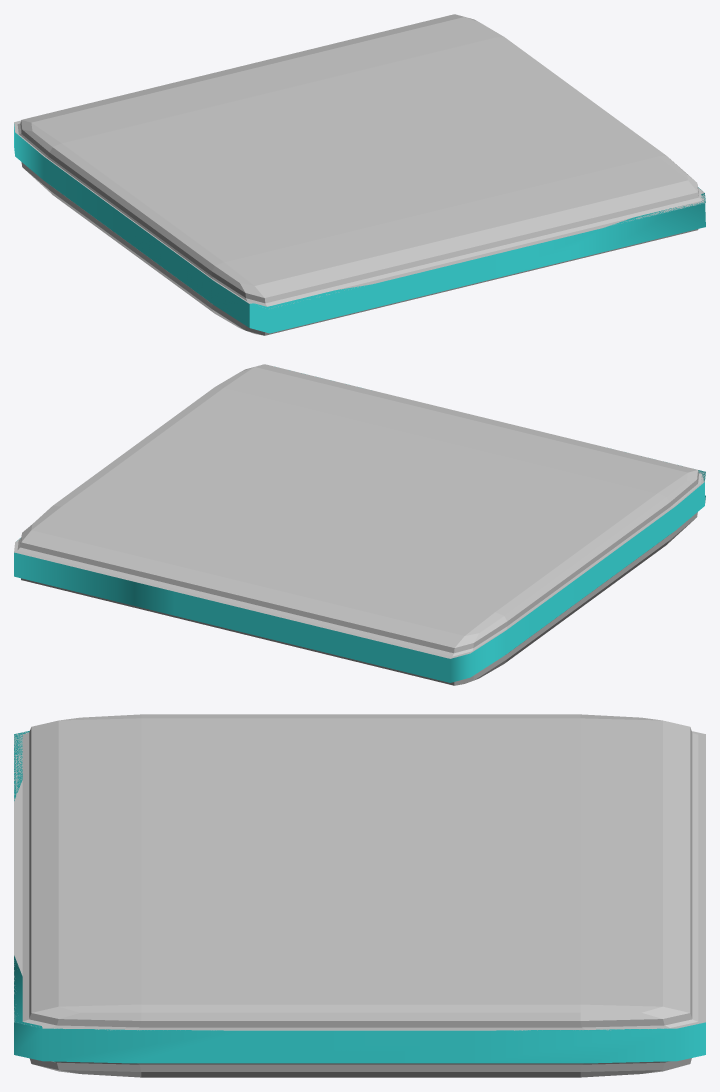
Rendered from Foundation.fbx.
3 renders of one model, top to bottom at view 1: azimuth 30°, elevation 25°; view 2: azimuth 150°, elevation 25°; view 3: azimuth 270°, elevation 25°, orthographic. The views are drawn at different scales.
Parts seen in each view (by area): view 1: Foundation_(1); view 2: Foundation_(1); view 3: Foundation_(1).
Part boxes in pixels (<box>): Foundation_(1): <box>14,14,705,335</box>; Foundation_(1): <box>14,364,705,685</box>; Foundation_(1): <box>14,714,705,1077</box>.
Size of the model in its own units: 104 by 11.04 by 99.75.
